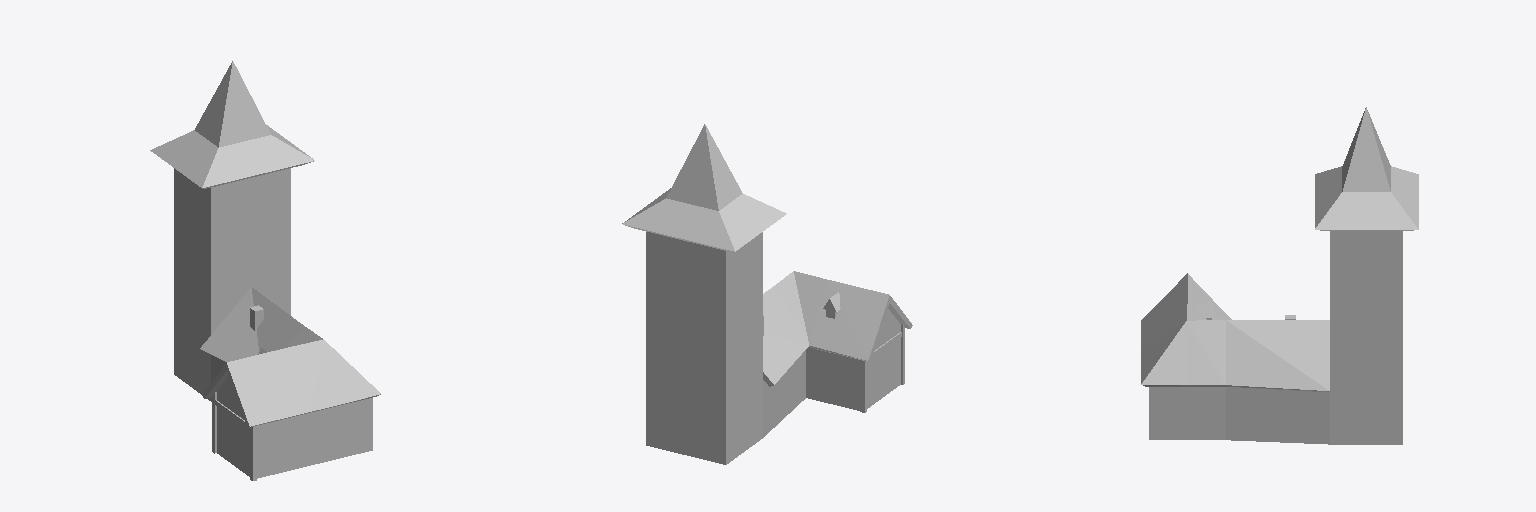
File: house_12.obj
3 views of the same model, side by side, from view 1: azimuth 30°, elevation 25°; view 2: azimuth 150°, elevation 25°; view 3: azimuth 270°, elevation 25° (orthographic).
Visible parts, largest first — view 1: Cube.129_Cube.165; view 2: Cube.129_Cube.165; view 3: Cube.129_Cube.165.
Boxes of the visible parts, box(x1,y1,x2,y2) form: Cube.129_Cube.165: box(150, 61, 380, 480); Cube.129_Cube.165: box(622, 124, 912, 464); Cube.129_Cube.165: box(1141, 107, 1418, 444).
Bounding box in the file's own units: 7.41 × 14.62 × 11.54.